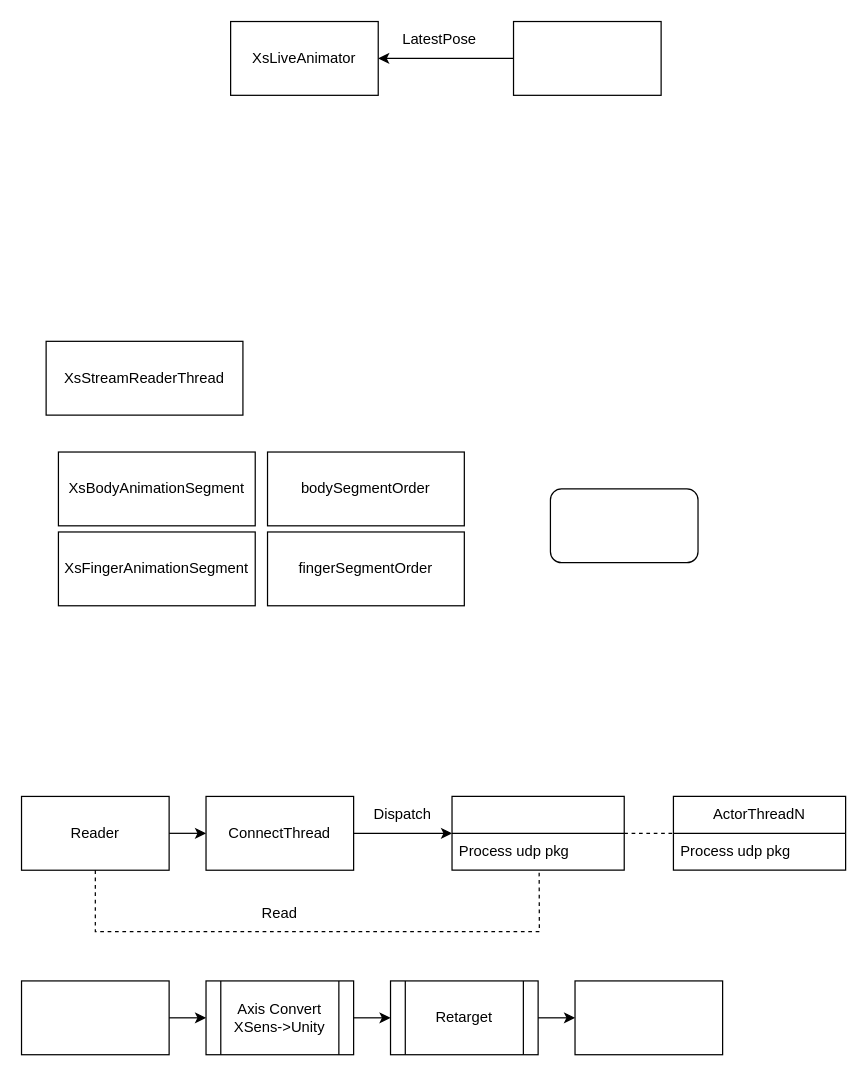
The diagram is 867 pixels wide and 1076 high, and some of its shapes have lost their labels. The box of each missing label's shape, as (x1, y1, x2, y2) in pixels:
ActorThread1: (451, 795, 624, 870)
Agent Avatar: (574, 980, 723, 1055)
Mecanim Bones: (549, 488, 698, 563)
XSens Raw Data: (20, 980, 169, 1055)
XsStreamReader: (512, 20, 661, 95)
